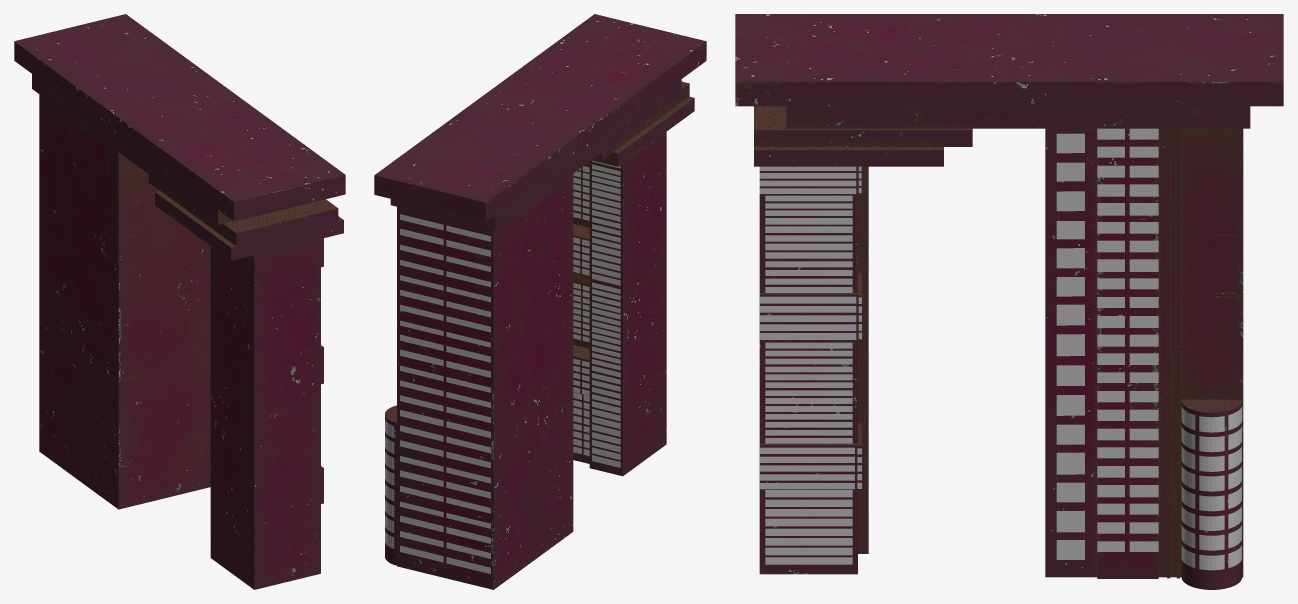
File: modern_building_1_version_1.fbx
The picture shows the model from 3 angles, left to right: view 1: azimuth 30°, elevation 25°; view 2: azimuth 150°, elevation 25°; view 3: azimuth 270°, elevation 25°; orthographic projection. The views are drawn at different scales.
Visible parts, largest first — view 1: Cube.001; view 2: Cube.001; view 3: Cube.001.
Part boxes in pixels (x1,y1,x2,y2): Cube.001: [14, 14, 345, 589]; Cube.001: [374, 14, 706, 589]; Cube.001: [735, 14, 1283, 589].
Size of the model in its own units: 229 by 696 by 689.
